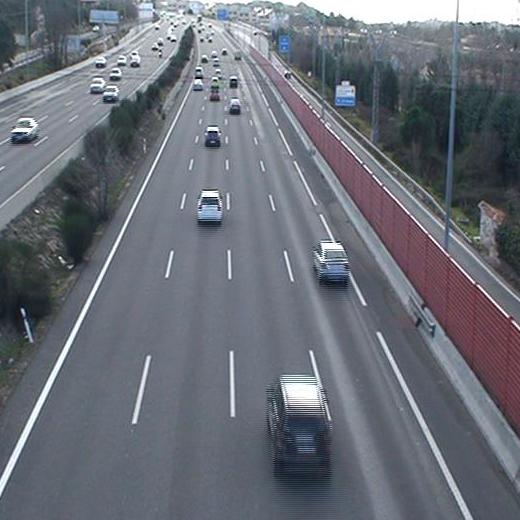car: (268, 377, 331, 461), (313, 242, 350, 283), (196, 190, 222, 221), (205, 127, 220, 146), (229, 99, 241, 113), (192, 81, 202, 90), (210, 91, 218, 100), (210, 78, 217, 87), (229, 78, 236, 86)
